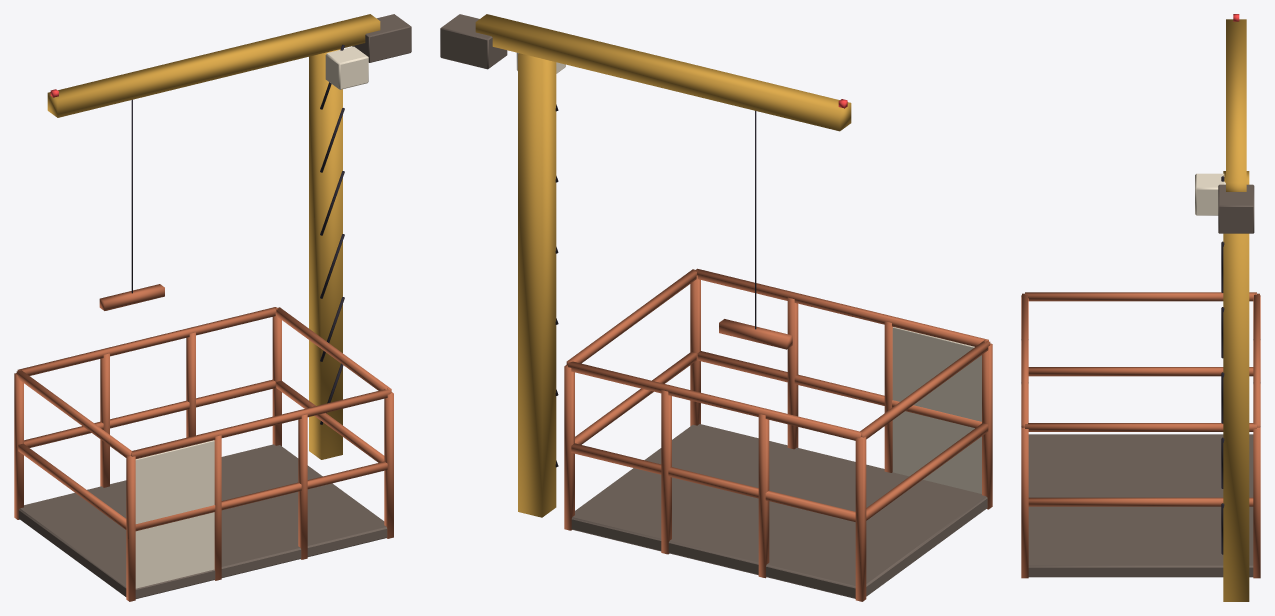
File: era_datacentre_build.glb
3 views of the same model, side by side, from view 1: azimuth 30°, elevation 25°; view 2: azimuth 150°, elevation 25°; view 3: azimuth 270°, elevation 25° (orthographic). The views are drawn at different scales.
Visible parts, largest first — view 1: era_datacentre_build; view 2: era_datacentre_build; view 3: era_datacentre_build.
Part boxes in pixels (x1=…): era_datacentre_build: x1=14, y1=14, x2=411, y2=601; era_datacentre_build: x1=440, y1=14, x2=992, y2=601; era_datacentre_build: x1=1021, y1=14, x2=1260, y2=601.
Size of the model in its own units: 8.77 by 9.51 by 4.64.
